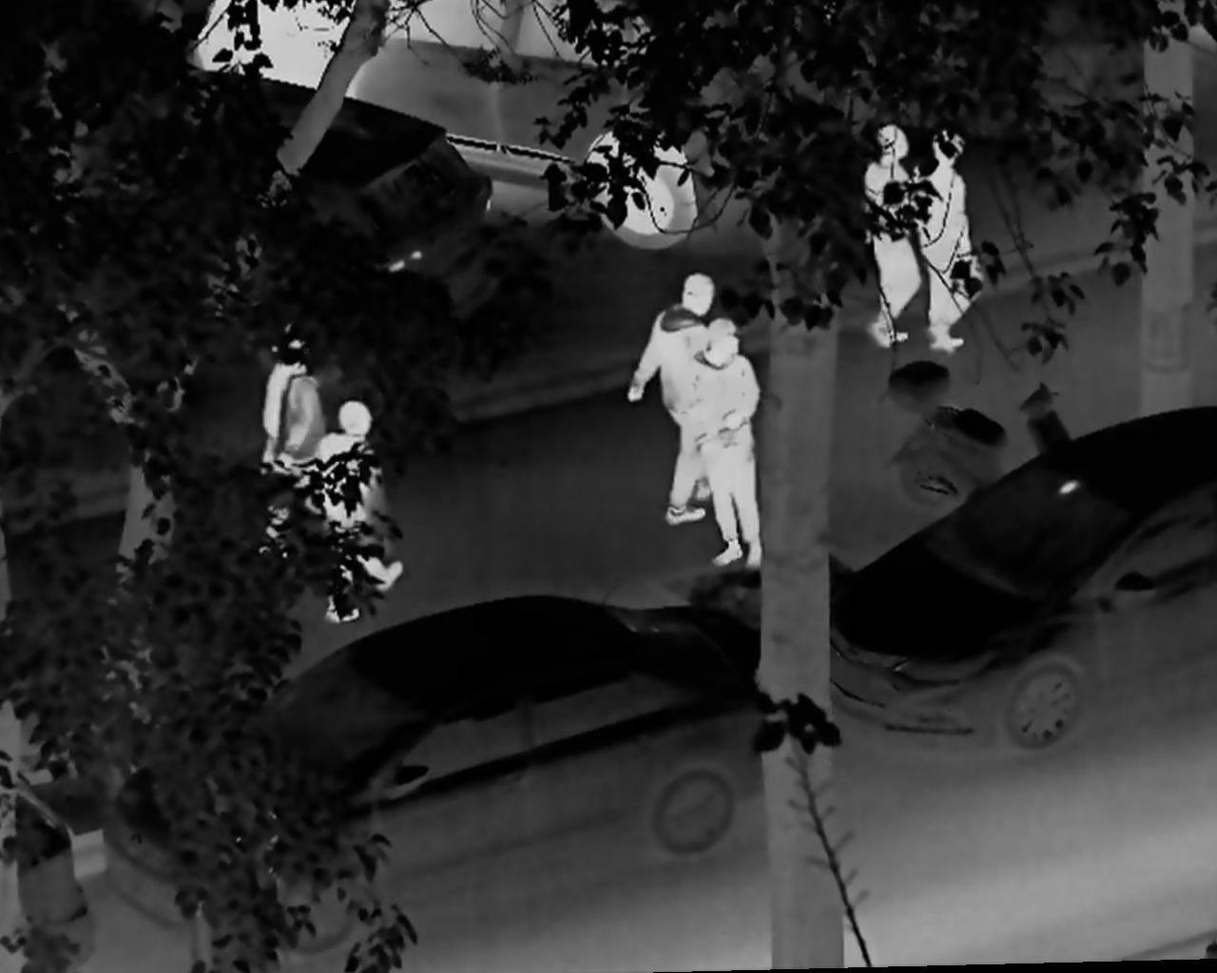person: (628, 266, 732, 526), (238, 321, 342, 567), (307, 399, 404, 623), (687, 319, 763, 571), (909, 131, 983, 359), (855, 118, 918, 349)
